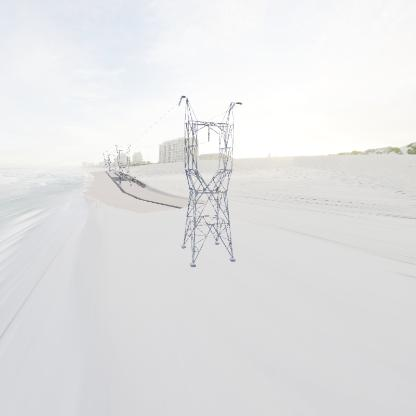tower: (174, 95, 243, 268)
